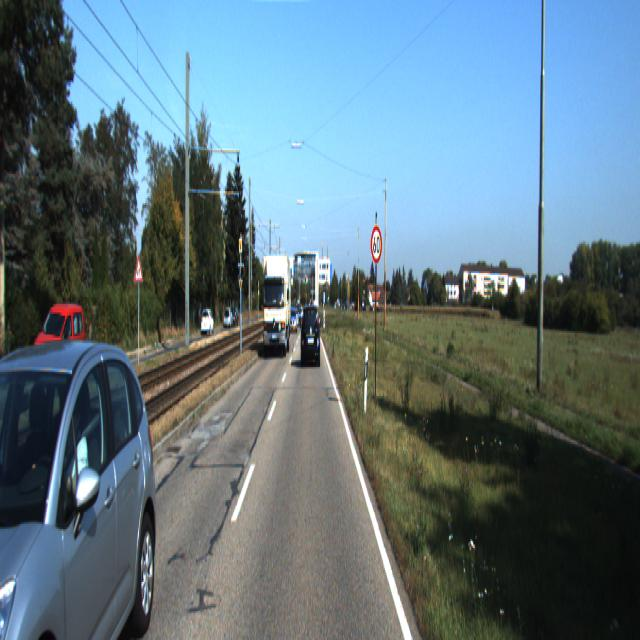Car: (0, 330, 169, 638), (34, 300, 86, 384), (263, 249, 291, 360), (301, 301, 321, 366), (201, 309, 215, 336), (288, 303, 298, 334)
